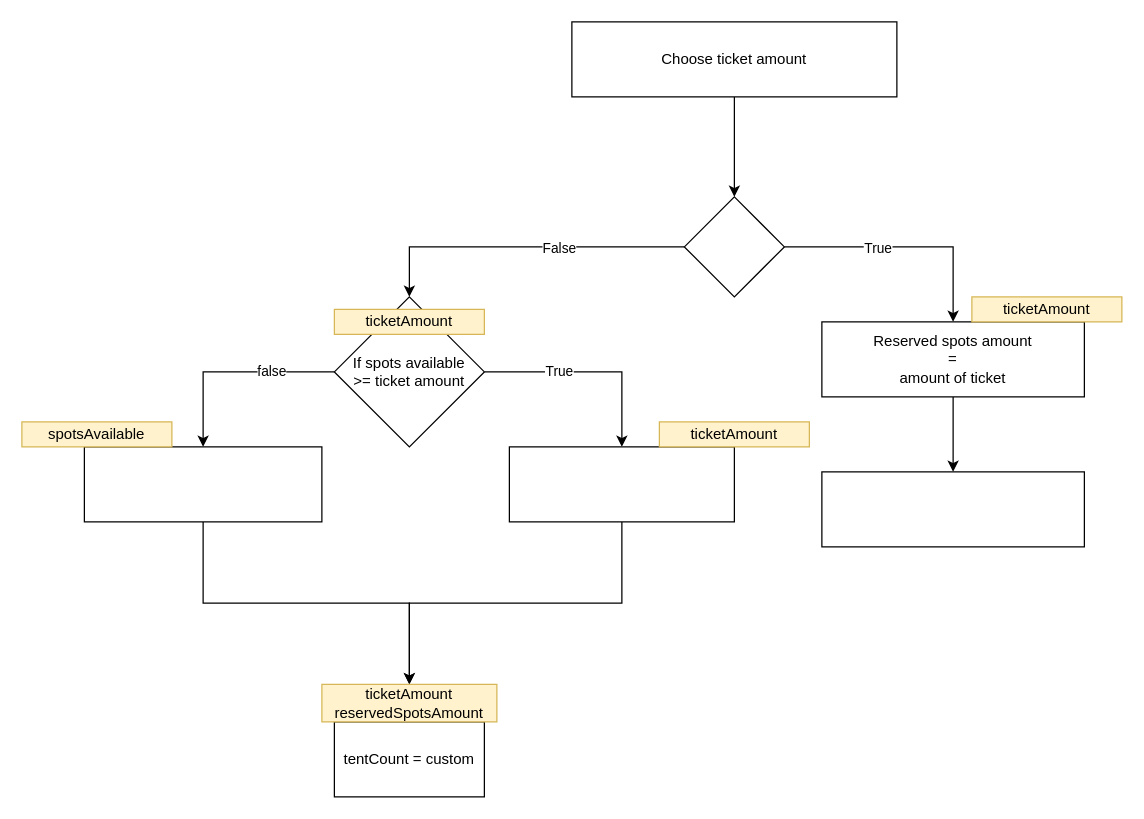
This 1144x819 diagram has some shape labels left out. The centre of each missing label's shape, as x and y in pixels:
One tent for each: point 733,246
Reserved spots amount = ticketAmount: point 621,484
ReservedSpotsAmount = spotsAvailable: point 202,484
Tent count = 2 person tent : ticket amount: point 952,509
